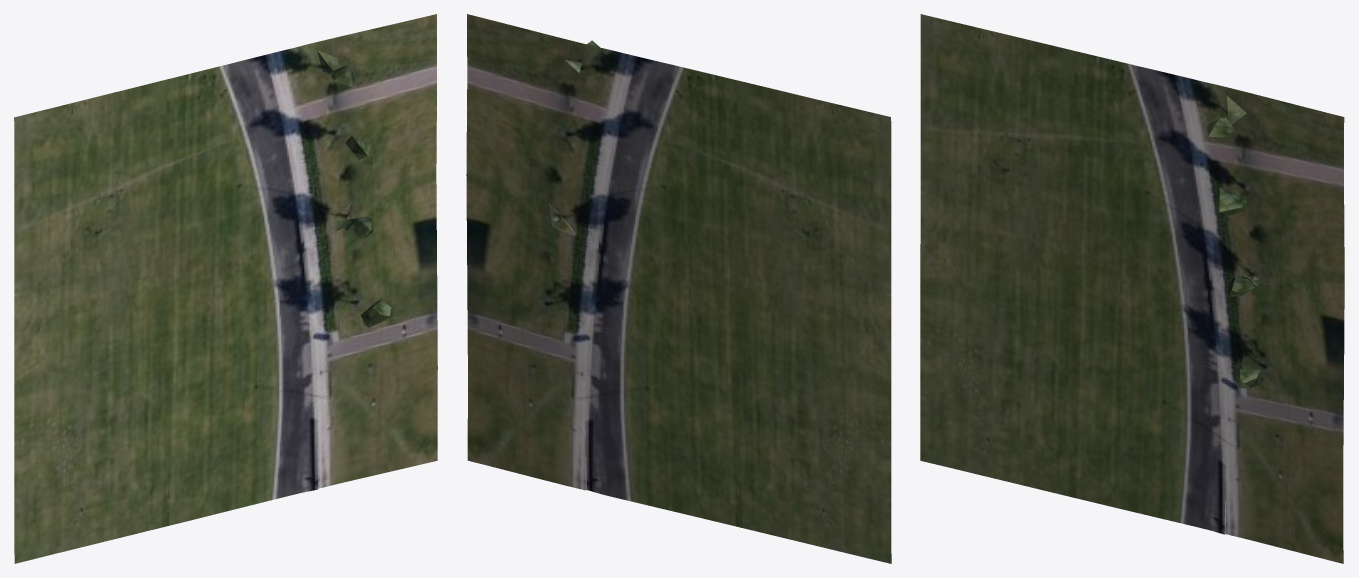
The model's file is Tile_+032_+023_L18_00031.obj.
The picture shows the model from 3 angles, left to right: view 1: azimuth 30°, elevation 25°; view 2: azimuth 150°, elevation 25°; view 3: azimuth 330°, elevation 25°; orthographic projection.
Size of the model in its own units: 63 by 63.5 by 7.55.
1 material, 1 textured.
